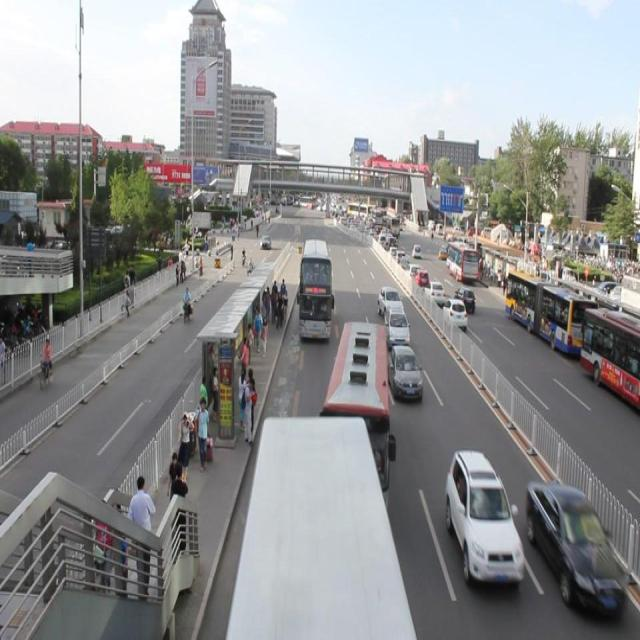car: (523, 479, 622, 616), (440, 447, 526, 591), (384, 345, 424, 405), (380, 309, 411, 349), (375, 286, 404, 324)
van: (225, 416, 417, 640), (313, 316, 394, 518), (295, 238, 334, 343)
